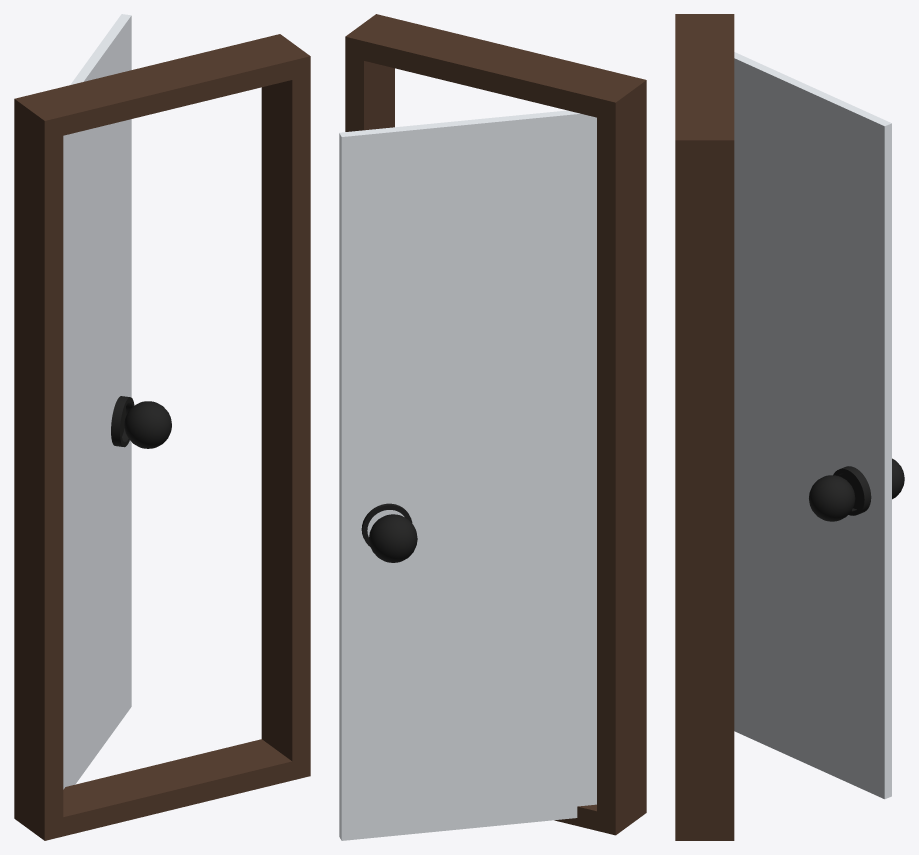
File: porta.fbx
3 views of the same model, side by side, from view 1: azimuth 30°, elevation 25°; view 2: azimuth 150°, elevation 25°; view 3: azimuth 270°, elevation 25° (orthographic). The views are drawn at different scales.
Parts seen in each view (by area): view 1: batente, porta, Sphere_1, Cylinder_1; view 2: porta, batente, Sphere; view 3: porta, batente, Sphere_1, Cylinder_1.
Part boxes in pixels (x1=…): batente: x1=14, y1=34, x2=310, y2=840; porta: x1=63, y1=14, x2=131, y2=789; Sphere_1: x1=124, y1=401, x2=171, y2=448; Cylinder_1: x1=111, y1=396, x2=134, y2=447; porta: x1=339, y1=110, x2=596, y2=840; batente: x1=345, y1=14, x2=646, y2=835; Sphere: x1=369, y1=514, x2=417, y2=562; porta: x1=734, y1=52, x2=891, y2=799; batente: x1=675, y1=14, x2=734, y2=840; Sphere_1: x1=809, y1=475, x2=855, y2=521; Cylinder_1: x1=833, y1=466, x2=871, y2=515.
Bounding box in the file's own units: 84.9 × 220 × 65.27.
